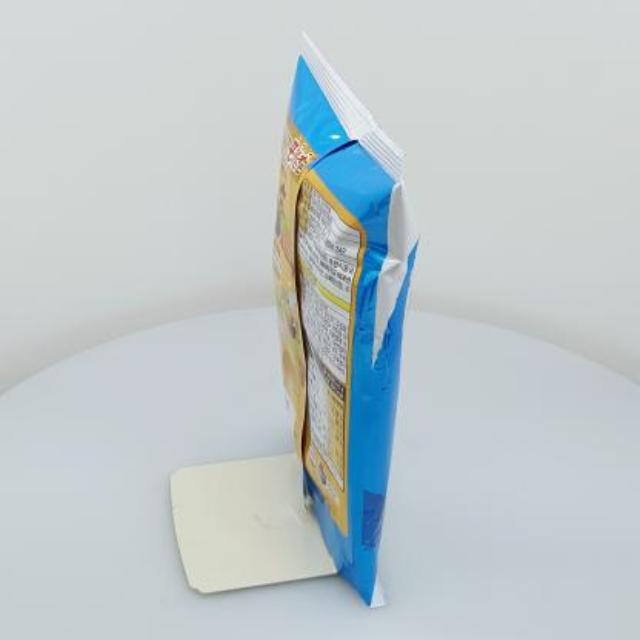snack_bag: (250, 18, 440, 618)
